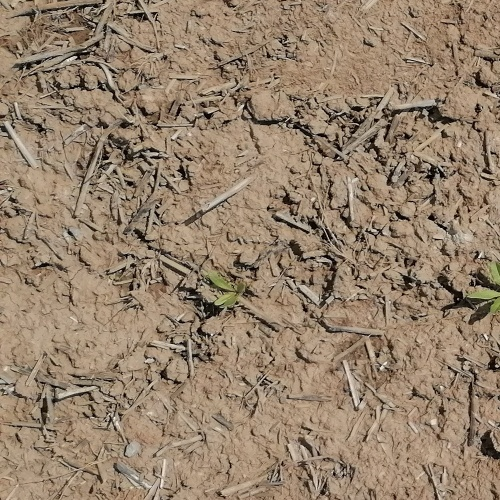beet: (471, 258, 500, 318), (209, 273, 247, 310)
